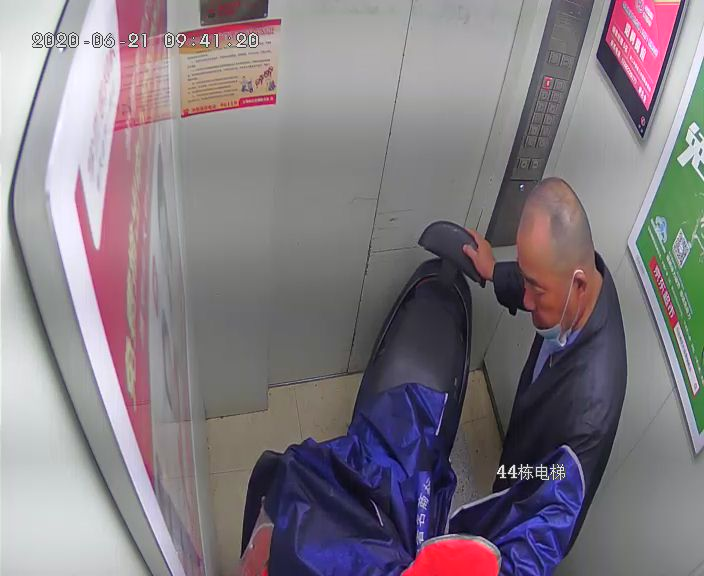Electric-bicycle: (267, 218, 583, 576)
